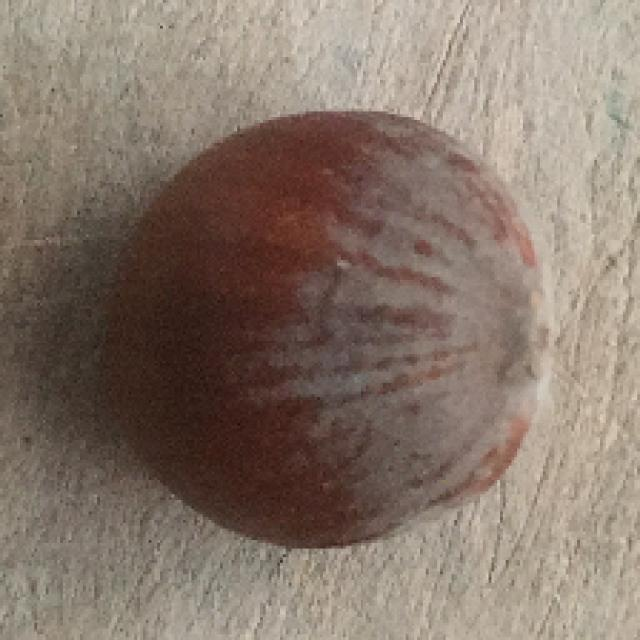qualityHazelnut: (108, 97, 546, 547)
